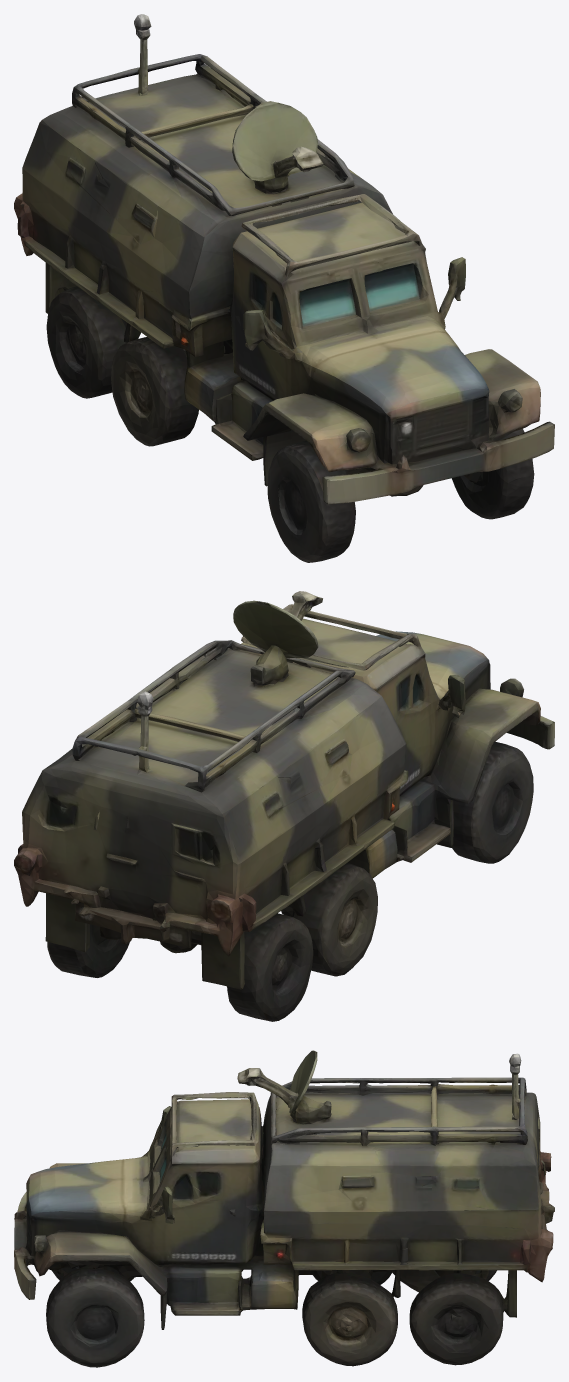
Rendered from a408d294-bca4-4eef-b11f-0f195f412396.glb.
The picture shows the model from 3 angles, top to bottom: view 1: azimuth 30°, elevation 25°; view 2: azimuth 150°, elevation 25°; view 3: azimuth 270°, elevation 25°; orthographic projection. The views are drawn at different scales.
Visible parts, largest first — view 1: geometry_0; view 2: geometry_0; view 3: geometry_0.
Boxes of the visible parts, x1,y1,x2,y2 form: geometry_0: [14, 14, 554, 562]; geometry_0: [14, 591, 554, 1021]; geometry_0: [14, 1050, 554, 1367].
Bounding box in the file's own units: 0.4132 × 0.5565 × 0.9961.
1 material, 1 textured.
